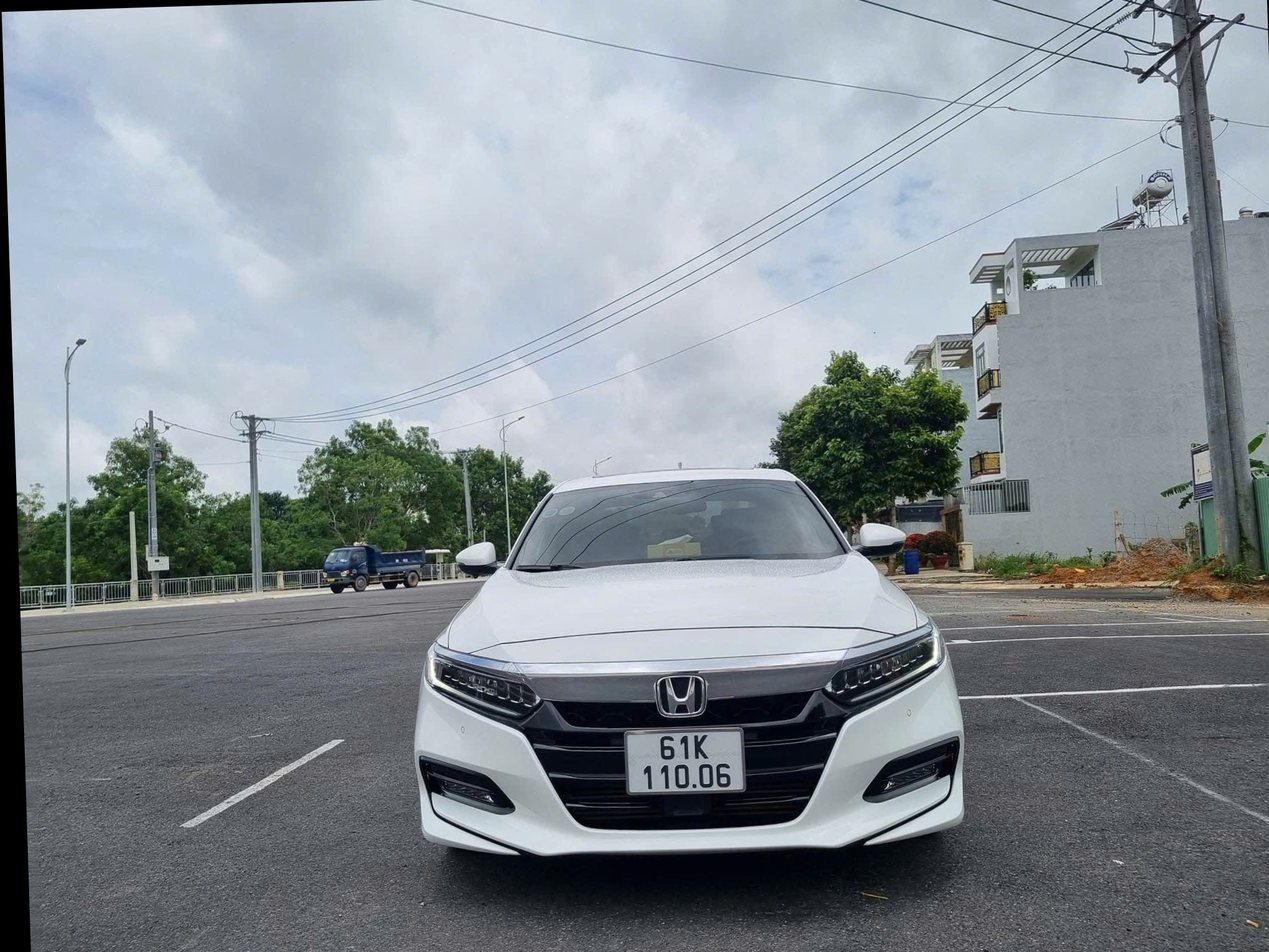Bien-so: (619, 725, 749, 799)
